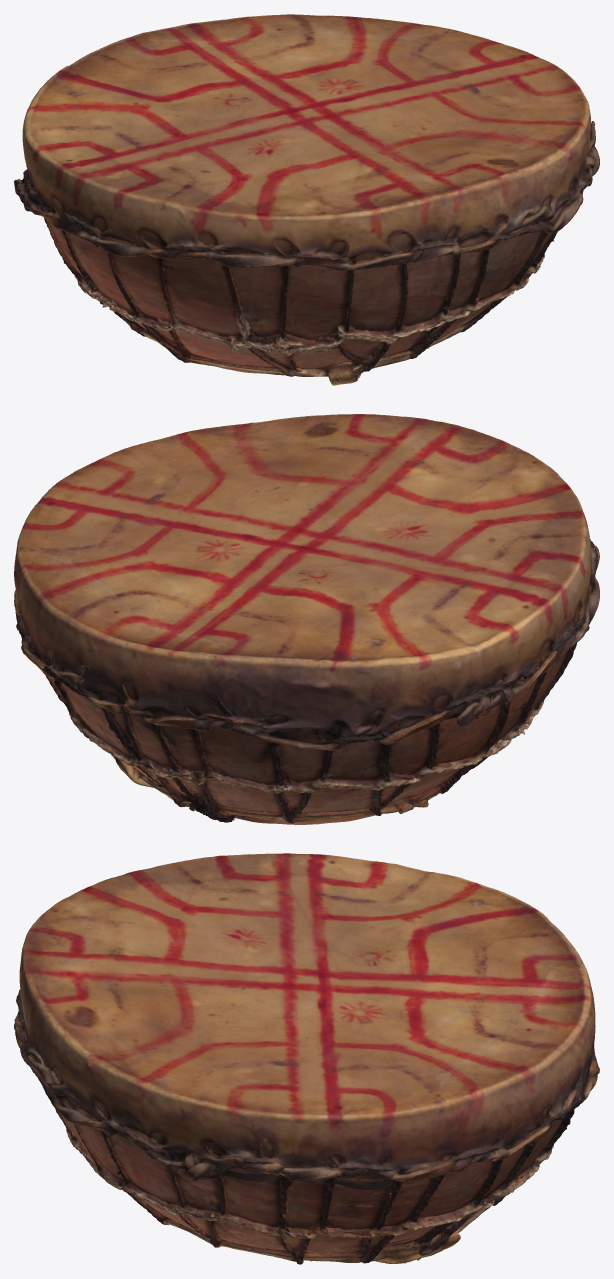
Rendered from tambor_ceremonial_de_machi_kultrung.glb.
3 renders of one model, top to bottom at view 1: azimuth 30°, elevation 25°; view 2: azimuth 150°, elevation 25°; view 3: azimuth 270°, elevation 25°, orthographic. The views are drawn at different scales.
Parts seen in each view (by area): view 1: Object_2, Object_3, Object_4, Object_5; view 2: Object_2, Object_3, Object_4, Object_5; view 3: Object_2, Object_3, Object_4, Object_5.
Boxes of the visible parts, bbox=[...] form: Object_2: bbox=[14, 14, 599, 382]; Object_3: bbox=[19, 15, 595, 385]; Object_4: bbox=[16, 14, 599, 385]; Object_5: bbox=[16, 14, 595, 384]; Object_2: bbox=[14, 414, 599, 822]; Object_3: bbox=[15, 414, 599, 824]; Object_4: bbox=[14, 414, 598, 824]; Object_5: bbox=[16, 415, 599, 824]; Object_2: bbox=[14, 853, 599, 1263]; Object_3: bbox=[15, 854, 599, 1264]; Object_4: bbox=[14, 853, 599, 1264]; Object_5: bbox=[15, 857, 598, 1262].
Size of the model in its own units: 396 by 183 by 379.
Materials: 1 (1 with a texture image).
